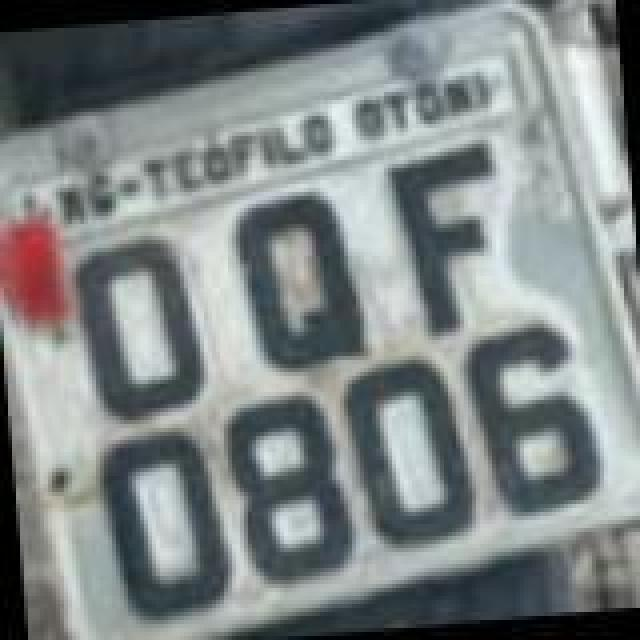6: (458, 316, 606, 524)
8: (214, 382, 362, 586)
F: (384, 132, 512, 340)
O: (338, 350, 478, 554), (98, 424, 238, 624), (68, 230, 212, 418)
Q: (228, 182, 372, 378)
